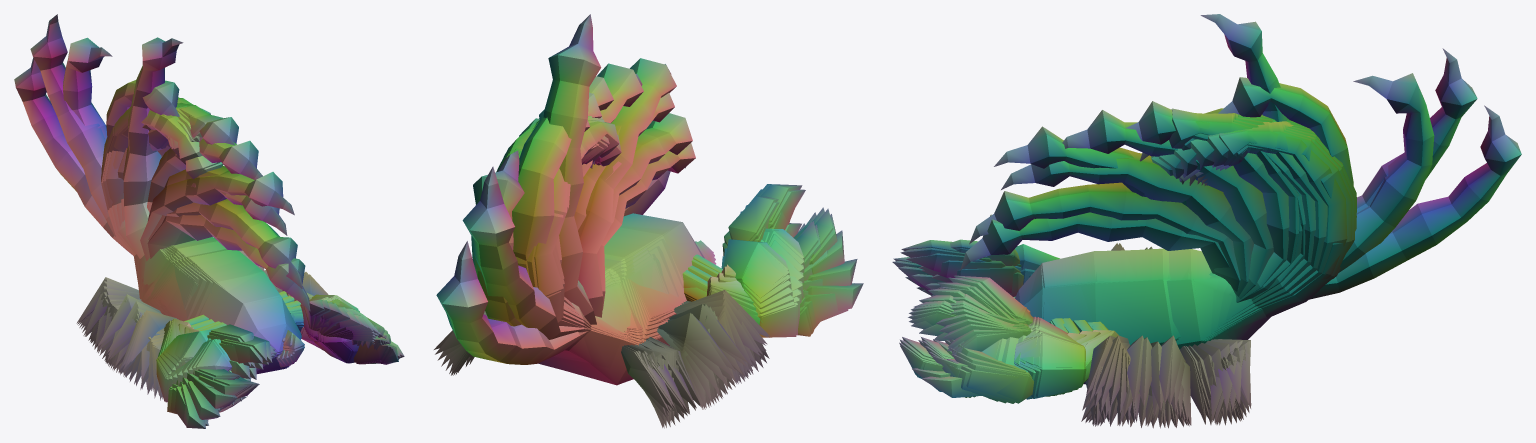
The model's file is Run_Fight_meshes.fbx.
3 views of the same model, side by side, from view 1: azimuth 30°, elevation 25°; view 2: azimuth 150°, elevation 25°; view 3: azimuth 270°, elevation 25° (orthographic). The views are drawn at different scales.
Parts seen in each view (by area): view 1: Run_Fight_014, Run_Fight_015, Run_Fight_012, Run_Fight_011, Run_Fight_013, Run_Fight_010, Run_Fight_017, Run_Fight_016, Run_Fight_009, Run_Fight_018, Run_Fight_019, Run_Fight_008 (+18 smaller); view 2: Run_Fight_010, Run_Fight_012, Run_Fight_013, Run_Fight_011, Run_Fight_008, Run_Fight_009, Run_Fight_015, Run_Fight_014, Run_Fight_016, Run_Fight_017, Run_Fight_027, Run_Fight_018 (+18 smaller); view 3: Run_Fight_016, Run_Fight_015, Run_Fight_014, Run_Fight_010, Run_Fight_000, Run_Fight_009, Run_Fight_017, Run_Fight_001, Run_Fight_018, Run_Fight_013, Run_Fight_012, Run_Fight_028 (+20 smaller).
Boxes of the visible parts, x1=… form: Run_Fight_014: x1=115, y1=215, x2=393, y2=400; Run_Fight_015: x1=112, y1=199, x2=393, y2=398; Run_Fight_012: x1=100, y1=37, x2=378, y2=395; Run_Fight_011: x1=30, y1=14, x2=365, y2=378; Run_Fight_013: x1=113, y1=170, x2=374, y2=399; Run_Fight_010: x1=14, y1=57, x2=361, y2=379; Run_Fight_017: x1=105, y1=138, x2=398, y2=408; Run_Fight_016: x1=110, y1=165, x2=398, y2=395; Run_Fight_009: x1=63, y1=37, x2=357, y2=381; Run_Fight_018: x1=107, y1=112, x2=394, y2=419; Run_Fight_019: x1=109, y1=104, x2=391, y2=428; Run_Fight_008: x1=79, y1=80, x2=374, y2=411; Run_Fight_010: x1=436, y1=241, x2=768, y2=409; Run_Fight_012: x1=466, y1=14, x2=805, y2=408; Run_Fight_013: x1=469, y1=58, x2=816, y2=404; Run_Fight_011: x1=461, y1=166, x2=766, y2=409; Run_Fight_008: x1=512, y1=109, x2=760, y2=417; Run_Fight_009: x1=471, y1=150, x2=765, y2=412; Run_Fight_015: x1=471, y1=113, x2=833, y2=410; Run_Fight_014: x1=470, y1=143, x2=824, y2=406; Run_Fight_016: x1=465, y1=93, x2=837, y2=413; Run_Fight_017: x1=582, y1=63, x2=844, y2=417; Run_Fight_027: x1=468, y1=213, x2=791, y2=410; Run_Fight_018: x1=589, y1=76, x2=857, y2=415; Run_Fight_016: x1=900, y1=151, x2=1253, y2=425; Run_Fight_015: x1=893, y1=182, x2=1240, y2=422; Run_Fight_014: x1=892, y1=212, x2=1229, y2=424; Run_Fight_010: x1=938, y1=105, x2=1521, y2=424; Run_Fight_000: x1=929, y1=122, x2=1352, y2=425; Run_Fight_009: x1=1015, y1=73, x2=1434, y2=424; Run_Fight_017: x1=899, y1=110, x2=1273, y2=426; Run_Fight_001: x1=925, y1=122, x2=1347, y2=426; Run_Fight_018: x1=900, y1=101, x2=1289, y2=426; Run_Fight_013: x1=898, y1=126, x2=1206, y2=425; Run_Fight_012: x1=911, y1=14, x2=1291, y2=426; Run_Fight_028: x1=952, y1=125, x2=1311, y2=426.
Bounding box in the file's own units: 249 × 324 × 519.
